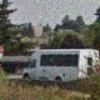buses: (22, 49, 100, 83)
